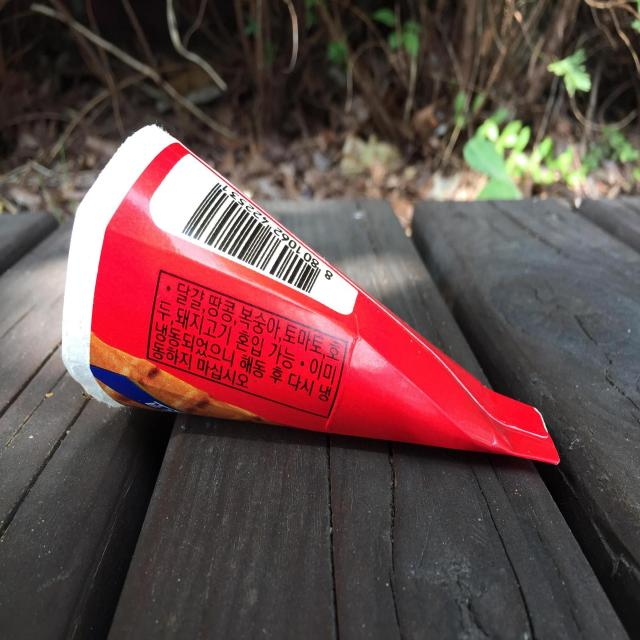paperpack: (62, 125, 560, 464)
